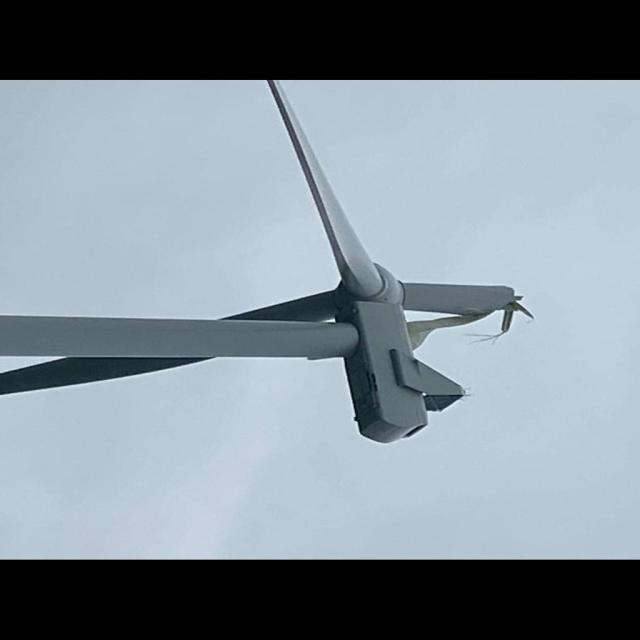crack: (394, 260, 545, 362)
